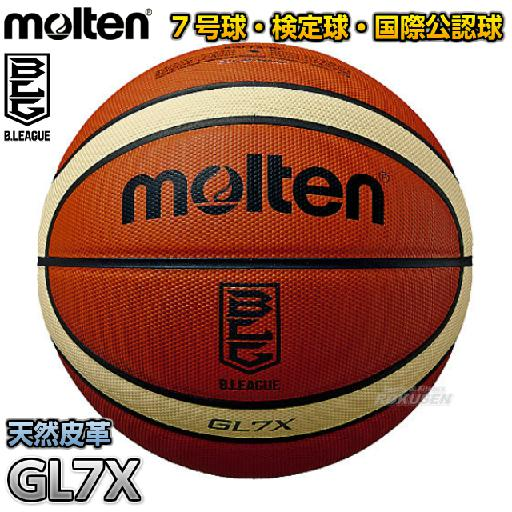ball: (39, 43, 472, 478)
